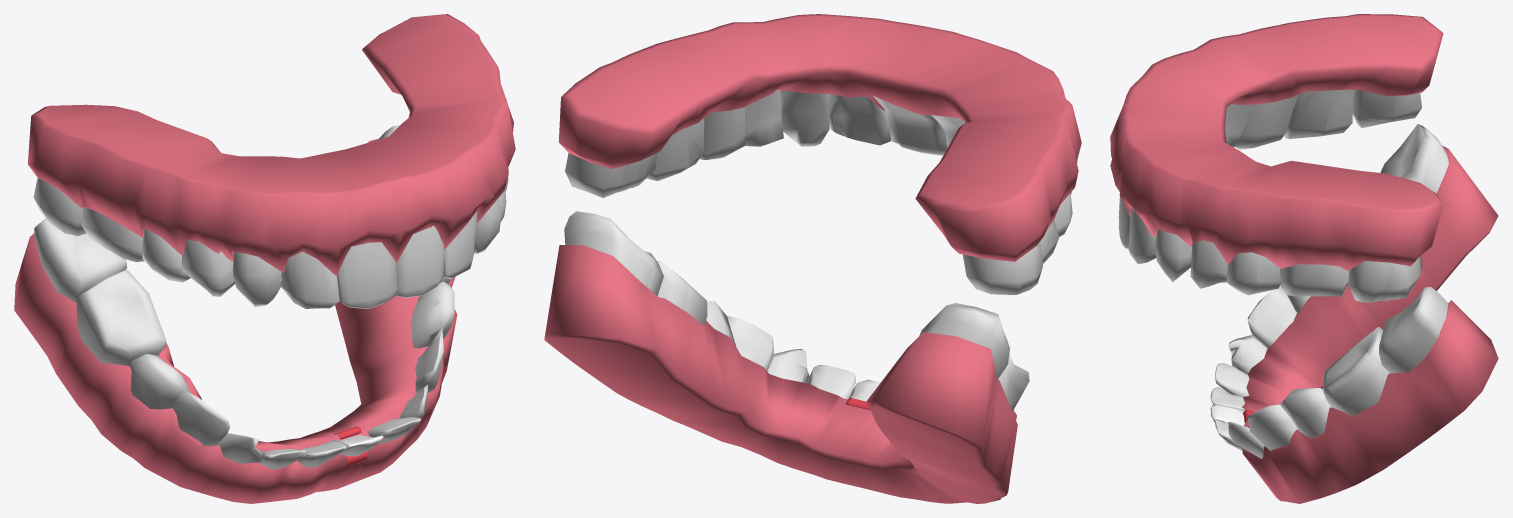
The model's file is Teeth.fbx.
3 renders of one model, left to right at view 1: azimuth 30°, elevation 25°; view 2: azimuth 150°, elevation 25°; view 3: azimuth 270°, elevation 25°, orthographic. The views are drawn at different scales.
Parts seen in each view (by area): view 1: DientesGums, Dientes, DientesGumsElevation1, DientesGumsIncision2, DientesGumsIncision1, DientesDrill3, CrownModel; view 2: DientesGumsElevation1, DientesDrill3, DientesGums, DientesGumsIncision2, Dientes, DientesGumsIncision1, DientesGumsIncision3; view 3: DientesGums, DientesGumsElevation1, Dientes, DientesDrill3, DientesGumsIncision2, DientesGumsIncision1, CrownModel.
Part boxes in pixels (x1,y1,x2,y2): DientesGums: (14,15,515,503); Dientes: (34,126,508,469); DientesGumsElevation1: (14,14,498,465); DientesGumsIncision2: (28,14,500,455); DientesGumsIncision1: (34,15,512,410); DientesDrill3: (33,125,442,461); CrownModel: (333,435,383,456); DientesGumsElevation1: (544,16,1078,503); DientesDrill3: (564,90,1071,402); DientesGums: (569,14,1081,491); DientesGumsIncision2: (568,16,1075,491); Dientes: (610,89,1072,410); DientesGumsIncision1: (569,16,1078,465); DientesGumsIncision3: (826,406,873,454); DientesGums: (1110,14,1463,503); DientesGumsElevation1: (1127,14,1498,484); Dientes: (1118,90,1437,458); DientesDrill3: (1139,89,1448,439); DientesGumsIncision2: (1129,14,1478,476); DientesGumsIncision1: (1123,15,1461,441); CrownModel: (1210,405,1244,425).
Size of the model in its own units: 373 by 304 by 295.
